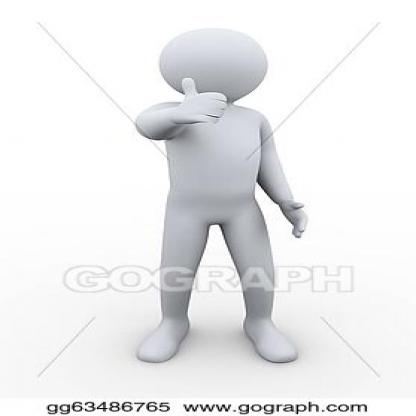Thumbs-Up: (165, 70, 238, 130)
